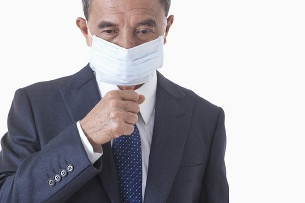Mask: (88, 12, 163, 86)
